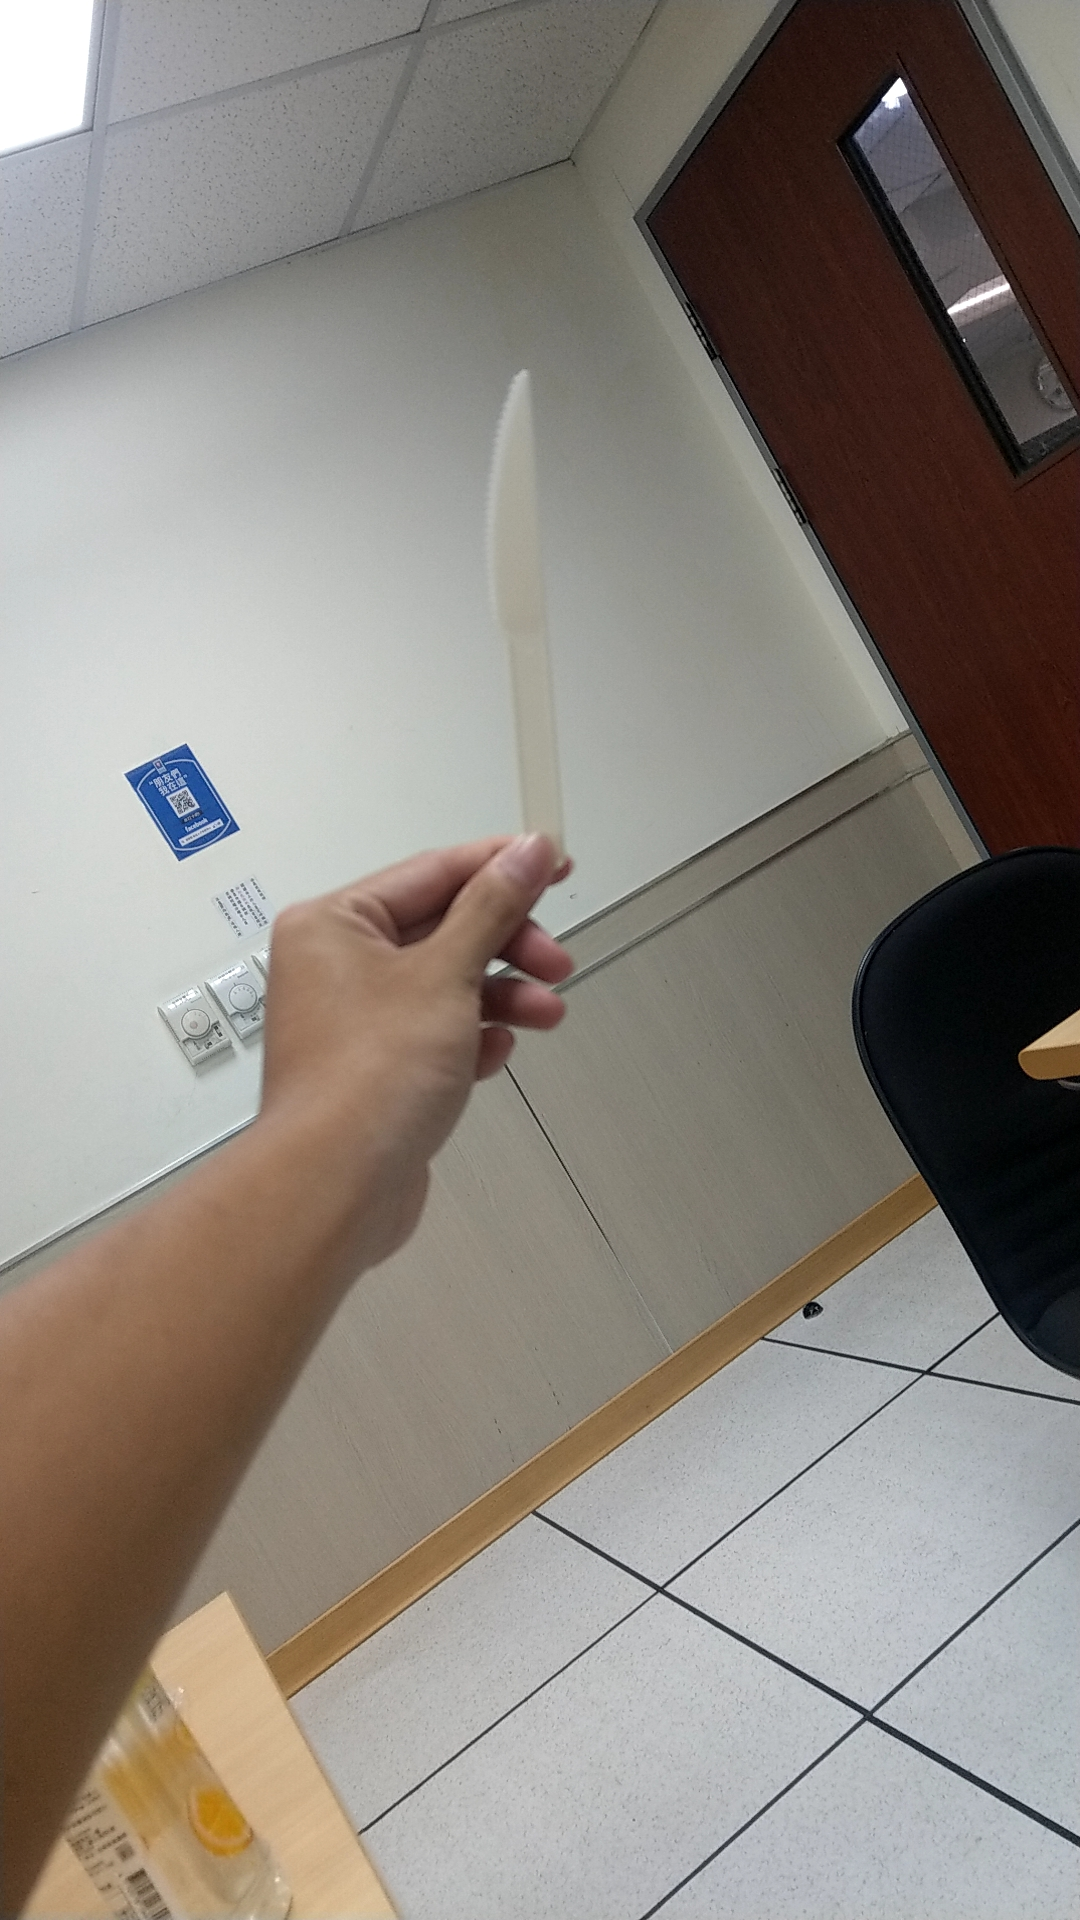knife: (465, 357, 589, 857)
